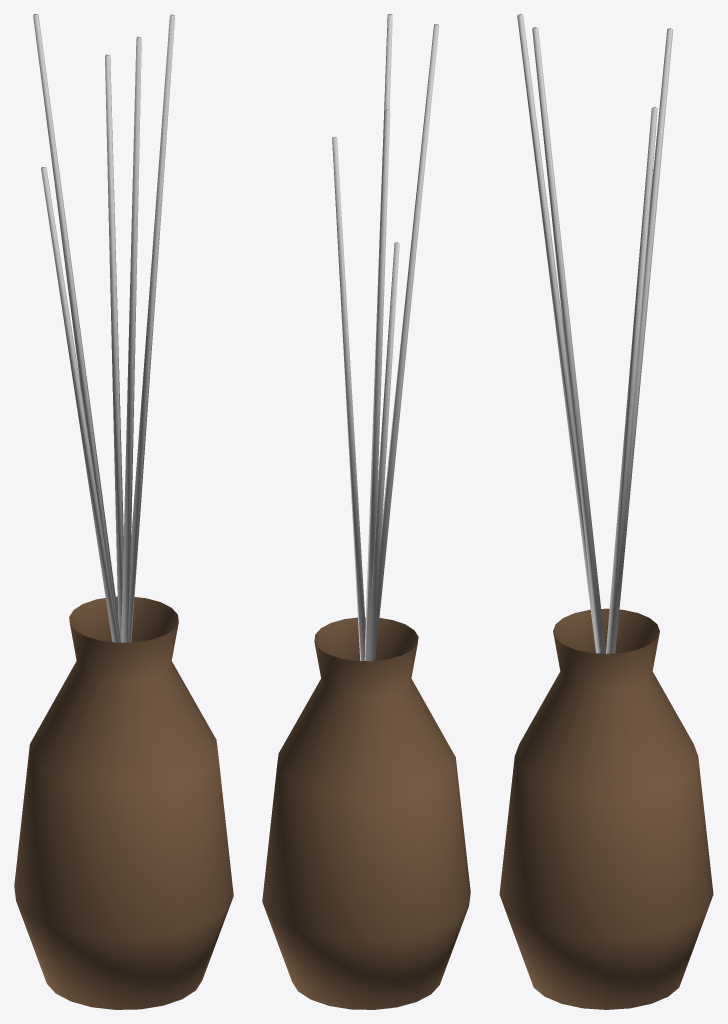
File: Vase_DeadFlowers.gltf
3 renders of one model, left to right at view 1: azimuth 30°, elevation 25°; view 2: azimuth 150°, elevation 25°; view 3: azimuth 270°, elevation 25°, orthographic. The views are drawn at different scales.
Parts seen in each view (by area): view 1: A_Vase_DeadFlowers; view 2: A_Vase_DeadFlowers; view 3: A_Vase_DeadFlowers.
Part boxes in pixels (left/top/right/bottom): A_Vase_DeadFlowers: left=14, top=14, right=233, bottom=1009; A_Vase_DeadFlowers: left=262, top=14, right=470, bottom=1009; A_Vase_DeadFlowers: left=499, top=14, right=713, bottom=1009.
Bounding box in the file's own units: 0.14 × 0.6894 × 0.14.
